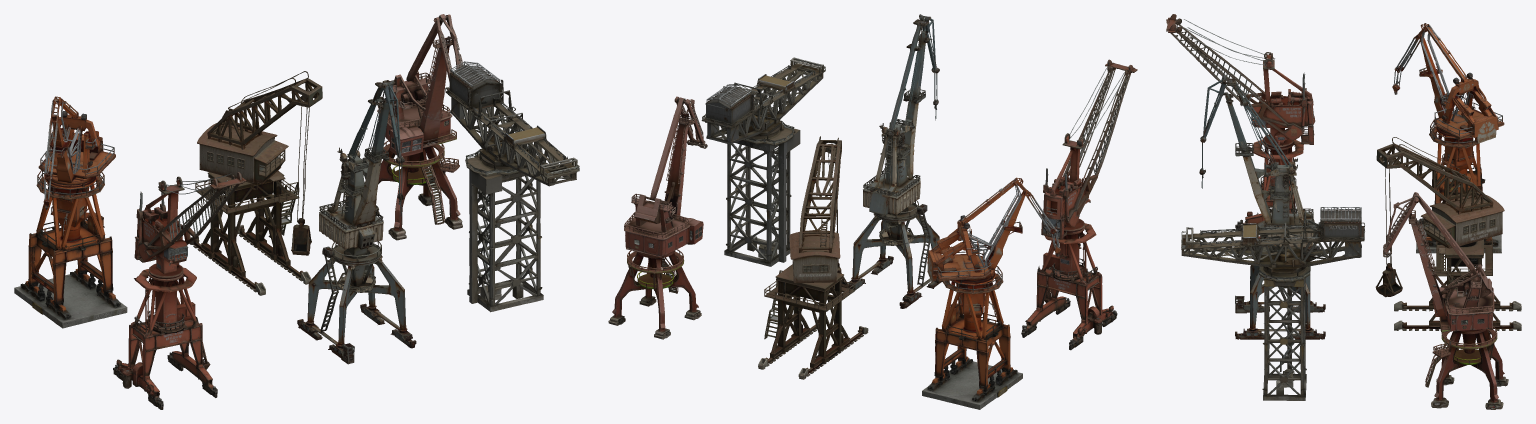
File: Cranes.fbx
The picture shows the model from 3 angles, left to right: view 1: azimuth 30°, elevation 25°; view 2: azimuth 150°, elevation 25°; view 3: azimuth 270°, elevation 25°; orthographic projection. The views are drawn at different scales.
Parts seen in each view (by area): view 1: crane_3, crane_2, crane_5, crane_6, crane_1, crane_4; view 2: crane_2, crane_3, crane_1, crane_5, crane_6, crane_4; view 3: crane_3, crane_5, crane_4, crane_6, crane_2, crane_1.
Boxes of the visible parts, left/top/right/bottom form: crane_3: left=445, top=61, right=579, bottom=312; crane_2: left=14, top=96, right=127, bottom=328; crane_5: left=189, top=71, right=322, bottom=295; crane_6: left=297, top=80, right=416, bottom=364; crane_1: left=113, top=172, right=246, bottom=409; crane_4: left=375, top=14, right=463, bottom=240; crane_2: left=922, top=177, right=1060, bottom=409; crane_3: left=701, top=57, right=825, bottom=266; crane_1: left=1021, top=59, right=1137, bottom=350; crane_5: left=758, top=136, right=868, bottom=379; crane_6: left=848, top=14, right=941, bottom=308; crane_4: left=608, top=96, right=707, bottom=339; crane_3: left=1181, top=207, right=1364, bottom=400; crane_5: left=1375, top=137, right=1521, bottom=330; crane_4: left=1383, top=192, right=1508, bottom=409; crane_6: left=1199, top=75, right=1325, bottom=339; crane_2: left=1392, top=23, right=1504, bottom=253; crane_1: left=1166, top=14, right=1321, bottom=251.
Bounding box in the file's own units: 94.38 × 56.78 × 73.43.
